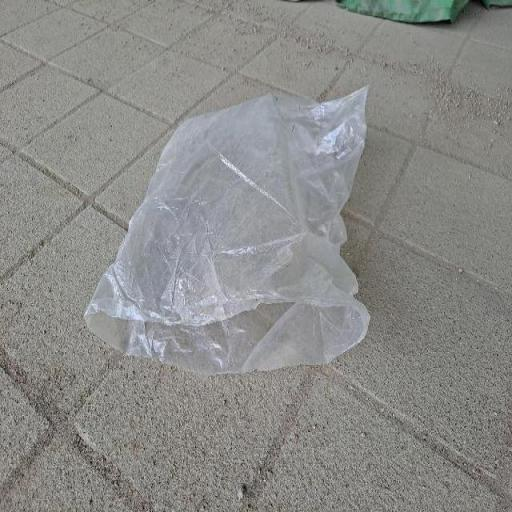plastic-bag: (80, 79, 373, 377)
